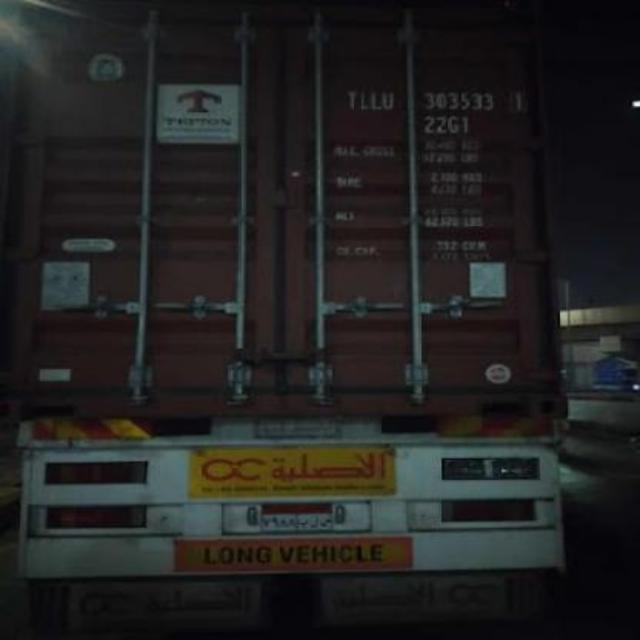0: (434, 89, 446, 115)
1: (508, 89, 530, 115)
3: (482, 85, 496, 118), (418, 87, 434, 113), (470, 86, 482, 114), (448, 88, 458, 114)
5: (458, 84, 470, 114)
L: (368, 86, 382, 112), (358, 89, 370, 115)
T: (344, 82, 358, 111)
U: (380, 86, 398, 114)
